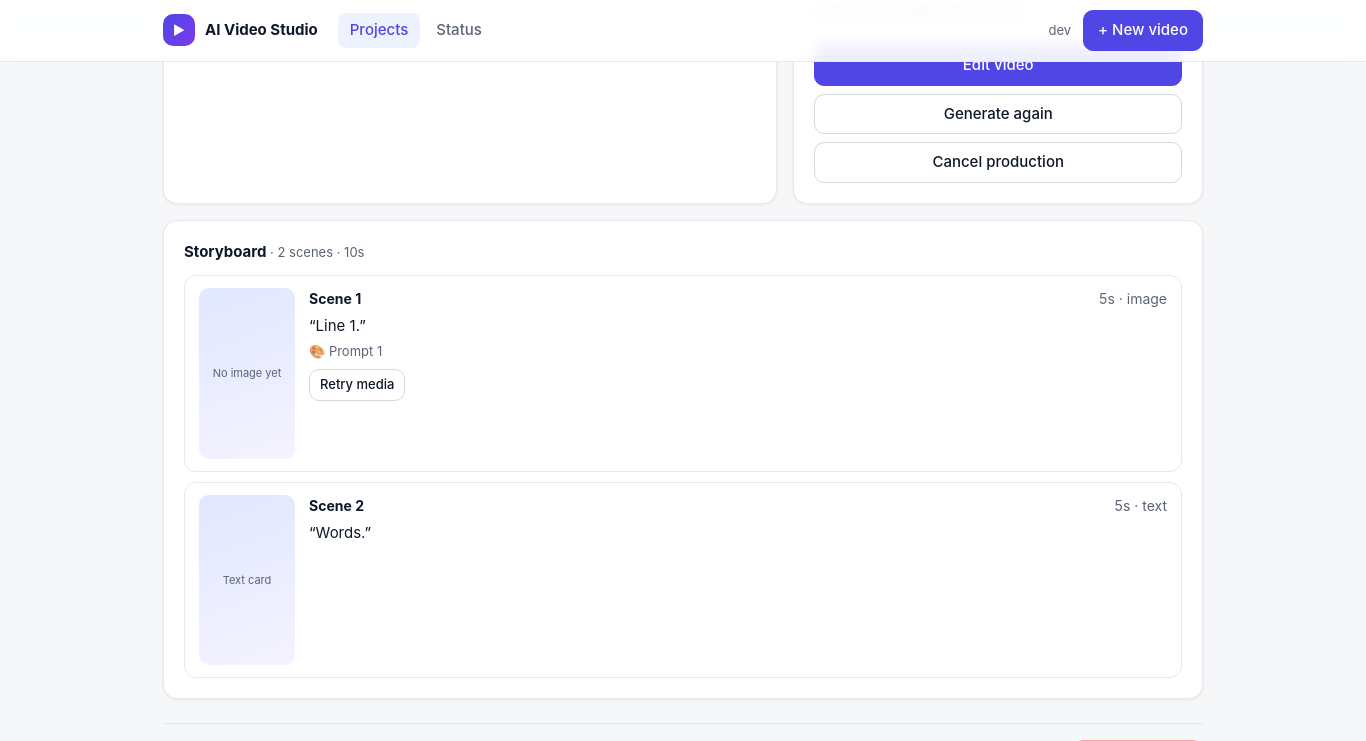
Test case: quality report and scene retry › offers Retry media only on scenes missing media, and retries just that scene
(page scrolled)
Click the button "Retry media" at (357, 385), box [309,369,405,400]
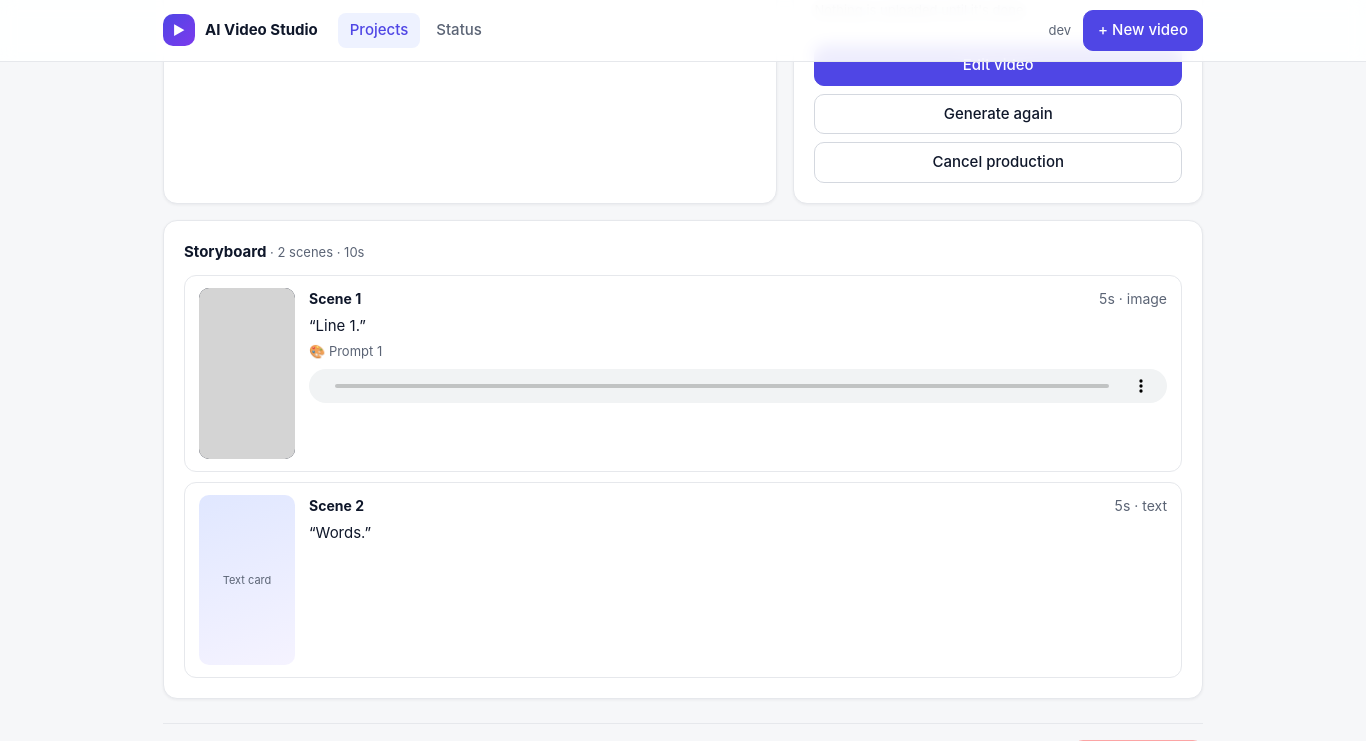
Now the button "Retry media" is gone
